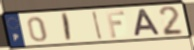0: (26, 16, 50, 43)
2: (158, 5, 186, 37)
A: (133, 8, 162, 38)
F: (105, 10, 126, 39)
I: (92, 10, 104, 41), (62, 12, 73, 43)
